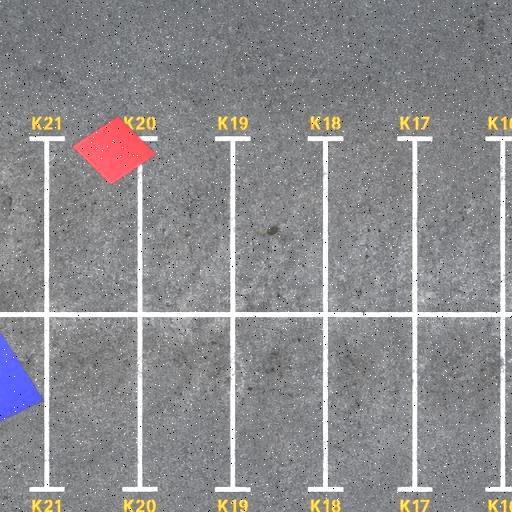BLUE_SQUARE: (0, 301, 44, 453)
RED_SQUARE: (72, 115, 158, 186)
